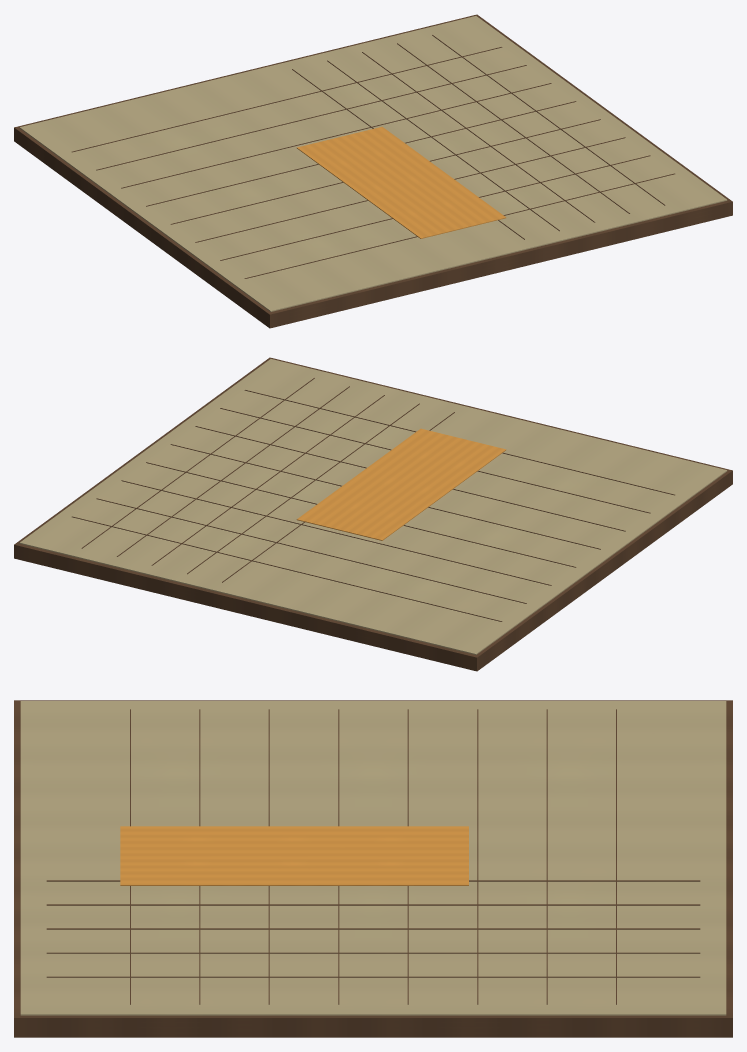
Rendered from atlas100-s015-a07.lod2.glb.
The picture shows the model from 3 angles, top to bottom: view 1: azimuth 30°, elevation 25°; view 2: azimuth 150°, elevation 25°; view 3: azimuth 270°, elevation 25°; orthographic projection. The views are drawn at different scales.
Parts seen in each view (by area): view 1: atlas100-s015-a07:part-001, atlas100-s015-a07:part-000, atlas100-s015-a07:part-021, atlas100-s015-a07:part-015, atlas100-s015-a07:part-013, atlas100-s015-a07:part-014, atlas100-s015-a07:part-019, atlas100-s015-a07:part-020, atlas100-s015-a07:part-016, atlas100-s015-a07:part-017, atlas100-s015-a07:part-018; view 2: atlas100-s015-a07:part-001, atlas100-s015-a07:part-000, atlas100-s015-a07:part-021, atlas100-s015-a07:part-014, atlas100-s015-a07:part-013, atlas100-s015-a07:part-015, atlas100-s015-a07:part-016, atlas100-s015-a07:part-017, atlas100-s015-a07:part-018, atlas100-s015-a07:part-020, atlas100-s015-a07:part-019; view 3: atlas100-s015-a07:part-001, atlas100-s015-a07:part-000, atlas100-s015-a07:part-021, atlas100-s015-a07:part-010, atlas100-s015-a07:part-009, atlas100-s015-a07:part-012, atlas100-s015-a07:part-011, atlas100-s015-a07:part-008, atlas100-s015-a07:part-014, atlas100-s015-a07:part-015.
Boxes of the visible parts, x1,y1,x2,y2 form: atlas100-s015-a07:part-001: (19,16,727,311); atlas100-s015-a07:part-000: (14,14,732,328); atlas100-s015-a07:part-021: (297,126,506,238); atlas100-s015-a07:part-015: (121,83,551,188); atlas100-s015-a07:part-013: (72,47,502,152); atlas100-s015-a07:part-014: (96,65,526,170); atlas100-s015-a07:part-019: (220,155,650,260); atlas100-s015-a07:part-020: (244,173,674,278); atlas100-s015-a07:part-016: (146,101,576,206); atlas100-s015-a07:part-017: (170,119,600,224); atlas100-s015-a07:part-018: (195,137,625,242); atlas100-s015-a07:part-001: (19,359,727,654); atlas100-s015-a07:part-000: (14,357,732,671); atlas100-s015-a07:part-021: (296,428,506,540); atlas100-s015-a07:part-014: (96,498,526,603); atlas100-s015-a07:part-013: (72,516,502,621); atlas100-s015-a07:part-015: (121,480,551,585); atlas100-s015-a07:part-016: (146,462,576,567); atlas100-s015-a07:part-017: (170,444,600,549); atlas100-s015-a07:part-018: (195,426,625,531); atlas100-s015-a07:part-020: (244,390,674,495); atlas100-s015-a07:part-019: (220,408,650,513); atlas100-s015-a07:part-001: (20,701,726,1015); atlas100-s015-a07:part-000: (14,700,732,1037); atlas100-s015-a07:part-021: (120,826,468,885); atlas100-s015-a07:part-010: (46,928,700,929); atlas100-s015-a07:part-009: (46,904,700,905); atlas100-s015-a07:part-012: (46,976,700,977); atlas100-s015-a07:part-011: (46,952,700,953); atlas100-s015-a07:part-008: (46,880,700,881); atlas100-s015-a07:part-014: (546,709,547,1004); atlas100-s015-a07:part-015: (477,709,478,1004).
Bounding box in the file's own units: 11.9 × 0.404 × 11.39.
Materials: 3 (3 with a texture image).
